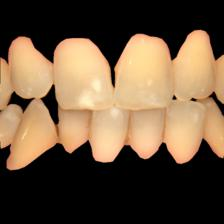cavity: (126, 118, 135, 147), (53, 125, 64, 145), (87, 119, 92, 139), (163, 118, 166, 142)
tooth: (53, 36, 113, 111), (115, 33, 171, 111), (6, 98, 55, 171), (172, 29, 215, 100), (9, 35, 52, 99), (168, 101, 202, 165), (90, 108, 125, 163), (132, 112, 165, 160), (59, 108, 90, 152)
